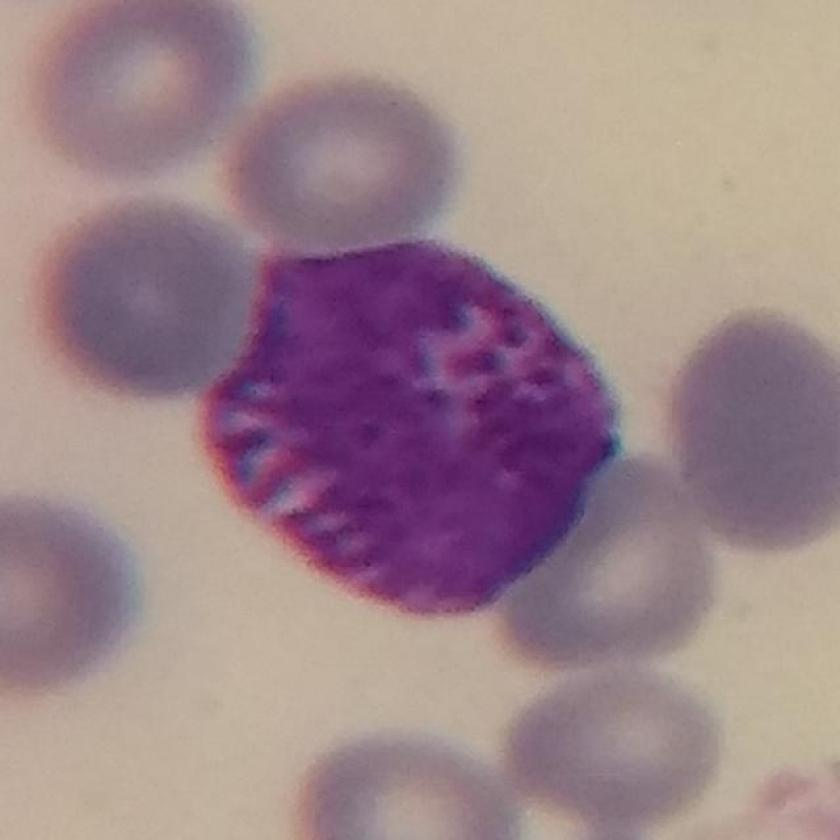basophil: (191, 232, 630, 631)
